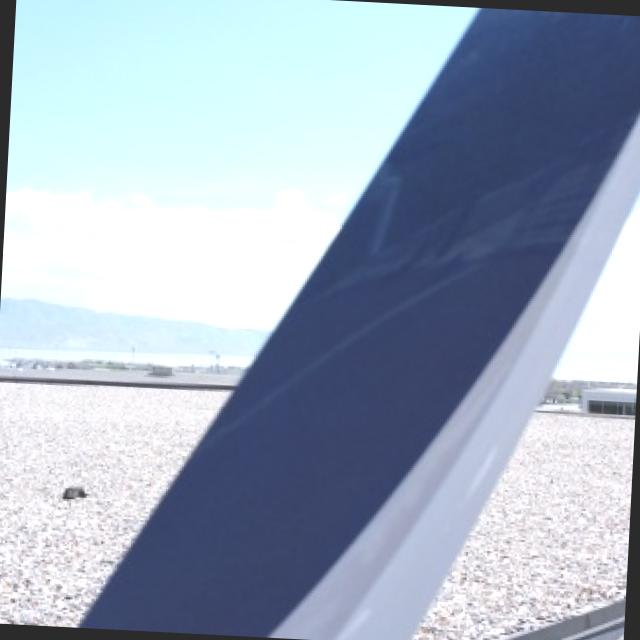healthy: (82, 8, 640, 639)
